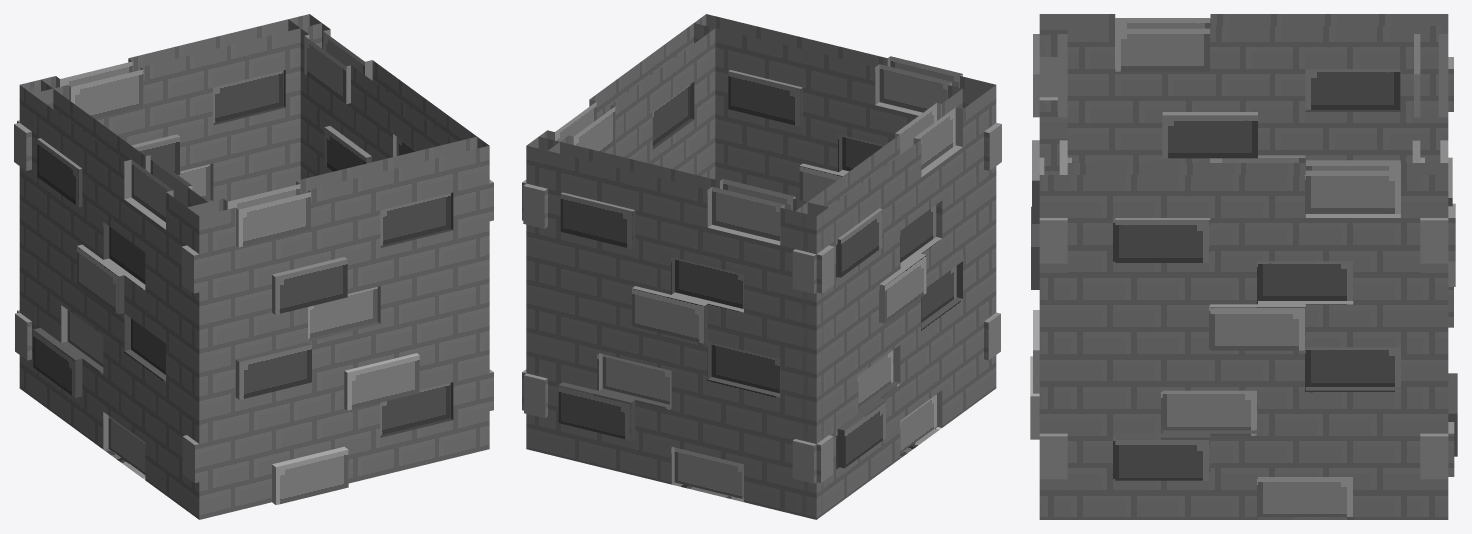
The picture shows the model from 3 angles, left to right: view 1: azimuth 30°, elevation 25°; view 2: azimuth 150°, elevation 25°; view 3: azimuth 270°, elevation 25°; orthographic projection. The views are drawn at different scales.
Visible parts, largest first — view 1: 4W; view 2: 4W; view 3: 4W.
Part boxes in pixels (left/top/right/bottom): 4W: left=14, top=14, right=493, bottom=519; 4W: left=522, top=14, right=1001, bottom=519; 4W: left=1030, top=14, right=1457, bottom=519.
Size of the model in its own units: 2.1 by 2 by 2.24.
Materials: 3 (3 with a texture image).
